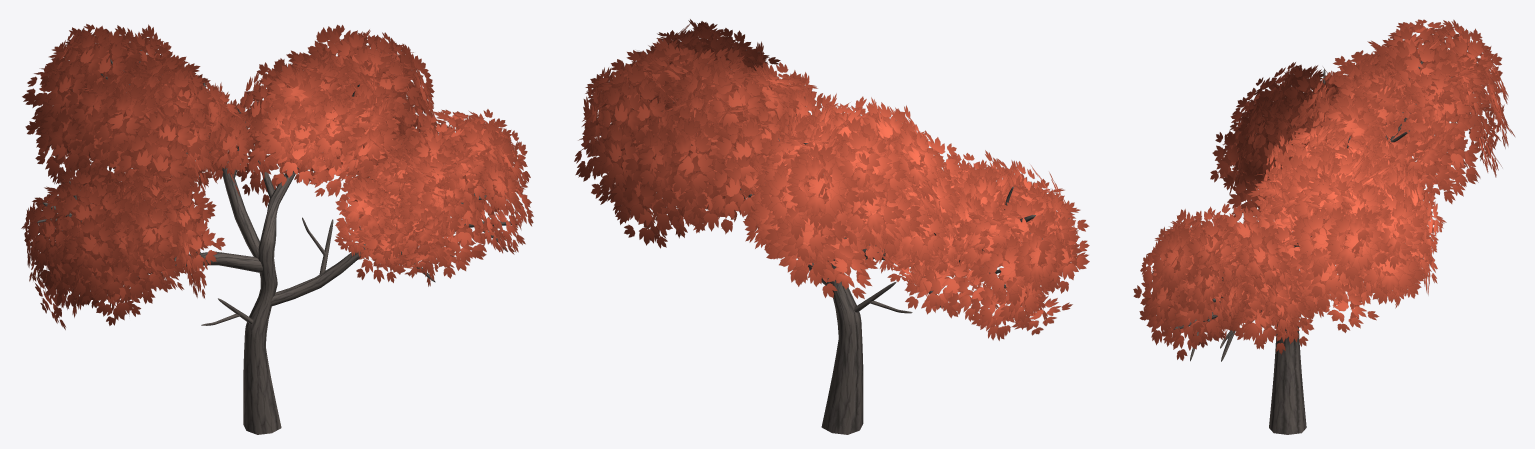
The model's file is MapleTree_3.glb.
The picture shows the model from 3 angles, left to right: view 1: azimuth 30°, elevation 25°; view 2: azimuth 150°, elevation 25°; view 3: azimuth 270°, elevation 25°; orthographic projection. The views are drawn at different scales.
Parts seen in each view (by area): view 1: MapleTree_3; view 2: MapleTree_3; view 3: MapleTree_3.
Part boxes in pixels (x1,y1,x2,y2): MapleTree_3: (21, 24, 533, 434); MapleTree_3: (574, 19, 1089, 434); MapleTree_3: (1133, 19, 1514, 434).
Bounding box in the file's own units: 8.98 × 6.99 × 6.61.
2 materials, 2 textured.
